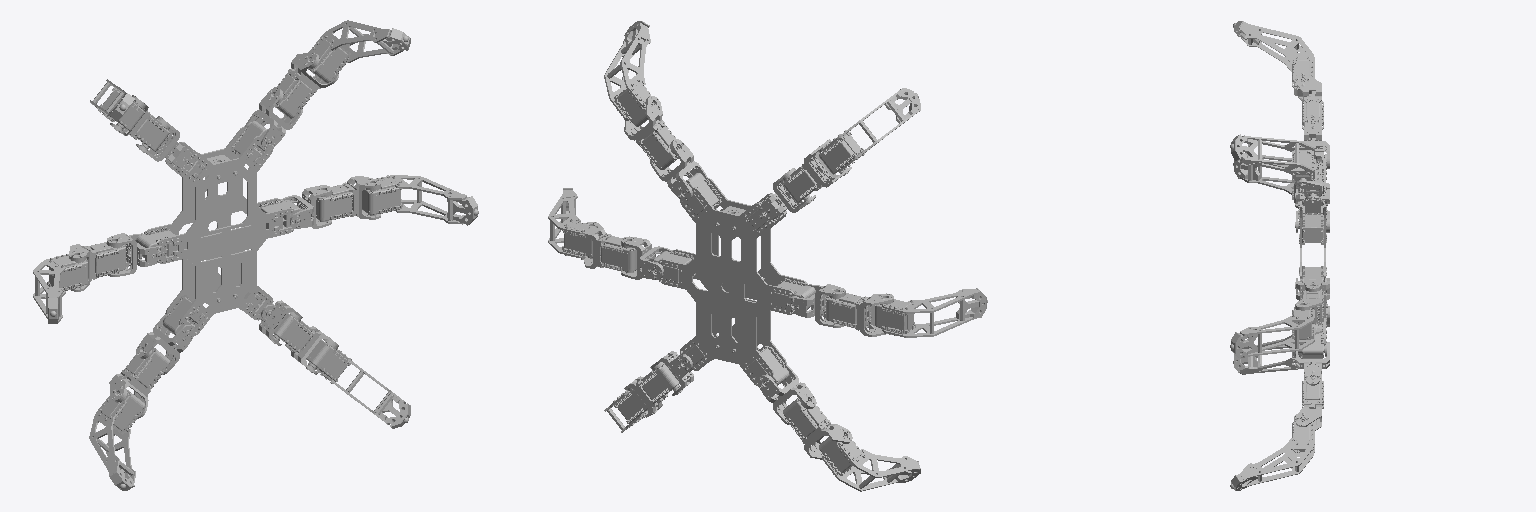
The robot description file, URDF, robot "ASSY_phantom_urdf":
<?xml version="1.0" encoding="utf-8"?>
<!-- This URDF was automatically created by SolidWorks to URDF Exporter! Originally created by [author] ([email redacted]) 
     Commit Version: 1.6.0-4-g7f85cfe  Build Version: 1.6.7995.38578
     For more information, please see http://wiki.ros.org/sw_urdf_exporter -->
<robot
  name="ASSY_phantom_urdf">
  <link
    name="torso">
    <inertial>
      <origin
        xyz="0 0 0"
        rpy="0 0 0" />
      <mass
        value="0.731212290700735" />
      <inertia
        ixx="0.0016575064168216"
        ixy="2.75745412968942E-16"
        ixz="-2.62507796666836E-08"
        iyy="0.00222717882817625"
        iyz="-1.46660187871453E-10"
        izz="0.000634194193879194" />
    </inertial>
    <visual>
      <origin
        xyz="0 0 0"
        rpy="0 0 0" />
      <geometry>
        <mesh
          filename="package://ASSY_phantom_urdf/meshes/torso.STL" />
      </geometry>
      <material
        name="">
        <color
          rgba="0.752941176470588 0.752941176470588 0.752941176470588 1" />
      </material>
    </visual>
  </link>
  <link
    name="LF_thigh">
    <inertial>
      <origin
        xyz="-0.0189187135333139 0.000478712531283593 -0.0260043189660494"
        rpy="0 0 0" />
      <mass
        value="0.0376750978794186" />
      <inertia
        ixx="1.0382676450319E-05"
        ixy="-4.82870833016279E-12"
        ixz="2.19742306492605E-10"
        iyy="1.03826762029704E-05"
        iyz="2.07177635224845E-10"
        izz="1.33200924059604E-05" />
    </inertial>
    <visual>
      <origin
        xyz="0 0 0"
        rpy="0 0 0" />
      <geometry>
        <mesh
          filename="package://ASSY_phantom_urdf/meshes/LF_thigh.STL" />
      </geometry>
      <material
        name="">
        <color
          rgba="0.752941176470588 0.752941176470588 0.752941176470588 1" />
      </material>
    </visual>
  </link>
  <joint
    name="LF1"
    type="continuous">
    <origin
      xyz="0.06091 0 0.12191"
      rpy="2.3562 0 -1.5708" />
    <parent
      link="torso" />
    <child
      link="LF_thigh" />
    <axis
      xyz="1 0 0" />
    <limit
      lower="-2.62"
      upper="2.62"
      effort="0"
      velocity="0" />
  </joint>
  <link
    name="LF_calf">
    <inertial>
      <origin
        xyz="0.0011883822058934 -0.0257706902685676 -0.000595468171442112"
        rpy="0 0 0" />
      <mass
        value="0.0806793209031788" />
      <inertia
        ixx="2.3728117388116E-05"
        ixy="6.91383343596089E-07"
        ixz="-1.86927058499739E-09"
        iyy="1.76778066861672E-05"
        iyz="-2.42616654359594E-07"
        izz="1.65430482663351E-05" />
    </inertial>
    <visual>
      <origin
        xyz="0 0 0"
        rpy="0 0 0" />
      <geometry>
        <mesh
          filename="package://ASSY_phantom_urdf/meshes/LF_calf.STL" />
      </geometry>
      <material
        name="">
        <color
          rgba="0.752941176470588 0.752941176470588 0.752941176470588 1" />
      </material>
    </visual>
  </link>
  <joint
    name="LF2"
    type="continuous">
    <origin
      xyz="-0.01844 0 -0.052"
      rpy="1.5708 0 0" />
    <parent
      link="LF_thigh" />
    <child
      link="LF_calf" />
    <axis
      xyz="0 0 1" />
    <limit
      lower="-2.62"
      upper="2.62"
      effort="0"
      velocity="0" />
  </joint>
  <link
    name="LF_foot">
    <inertial>
      <origin
        xyz="0.0260368249252049 -0.0404597860340416 -0.000363415281257676"
        rpy="0 0 0" />
      <mass
        value="0.103482657185437" />
      <inertia
        ixx="2.77294583593127E-05"
        ixy="1.34850250437592E-05"
        ixz="-1.89527590732161E-09"
        iyy="3.65156462038506E-05"
        iyz="-2.42567822476693E-07"
        izz="4.94335795823809E-05" />
    </inertial>
    <visual>
      <origin
        xyz="0 0 0"
        rpy="0 0 0" />
      <geometry>
        <mesh
          filename="package://ASSY_phantom_urdf/meshes/LF_foot.STL" />
      </geometry>
      <material
        name="">
        <color
          rgba="0.752941176470588 0.752941176470588 0.752941176470588 1" />
      </material>
    </visual>
    <collision>
      <origin
        xyz="0 0 0"
        rpy="0 0 0" />
      <geometry>
        <mesh
          filename="package://ASSY_phantom_urdf/meshes/LF_foot.STL" />
      </geometry>
    </collision>
  </link>
  <joint
    name="LF3"
    type="continuous">
    <origin
      xyz="0.014589 -0.06443 0"
      rpy="0 0 0.003125" />
    <parent
      link="LF_calf" />
    <child
      link="LF_foot" />
    <axis
      xyz="0 0 1" />
    <limit
      lower="-2.62"
      upper="2.62"
      effort="0"
      velocity="0" />
  </joint>
  <link
    name="LM_thigh">
    <inertial>
      <origin
        xyz="-0.0189187144776559 0.000478714468876692 -0.0260043724674276"
        rpy="0 0 0" />
      <mass
        value="0.0376751009203242" />
      <inertia
        ixx="1.03826695315805E-05"
        ixy="-4.98915057940367E-12"
        ixz="2.12172123274005E-10"
        iyy="1.03826695315805E-05"
        iyz="2.12171092886712E-10"
        izz="1.33200927078181E-05" />
    </inertial>
    <visual>
      <origin
        xyz="0 0 0"
        rpy="0 0 0" />
      <geometry>
        <mesh
          filename="package://ASSY_phantom_urdf/meshes/LM_thigh.STL" />
      </geometry>
      <material
        name="">
        <color
          rgba="0.752941176470588 0.752941176470588 0.752941176470588 1" />
      </material>
    </visual>
  </link>
  <joint
    name="LM1"
    type="continuous">
    <origin
      xyz="0.1035 0 0"
      rpy="1.5708 0 -1.5708" />
    <parent
      link="torso" />
    <child
      link="LM_thigh" />
    <axis
      xyz="1 0 0" />
    <limit
      lower="-2.62"
      upper="2.62"
      effort="0"
      velocity="0" />
  </joint>
  <link
    name="LM_calf">
    <inertial>
      <origin
        xyz="0.00118838231960932 -0.025770698950229 -0.000595469030781378"
        rpy="0 0 0" />
      <mass
        value="0.0806793230410402" />
      <inertia
        ixx="2.372813040667E-05"
        ixy="6.91387181200164E-07"
        ixz="-1.86911320278935E-09"
        iyy="1.76778070616522E-05"
        iyz="-2.42614136009203E-07"
        izz="1.65430614484109E-05" />
    </inertial>
    <visual>
      <origin
        xyz="0 0 0"
        rpy="0 0 0" />
      <geometry>
        <mesh
          filename="package://ASSY_phantom_urdf/meshes/LM_calf.STL" />
      </geometry>
      <material
        name="">
        <color
          rgba="0.752941176470588 0.752941176470588 0.752941176470588 1" />
      </material>
    </visual>
  </link>
  <joint
    name="LM2"
    type="continuous">
    <origin
      xyz="-0.01844 0 -0.052"
      rpy="1.5708 0 0" />
    <parent
      link="LM_thigh" />
    <child
      link="LM_calf" />
    <axis
      xyz="0 0 1" />
    <limit
      lower="-2.62"
      upper="2.62"
      effort="0"
      velocity="0" />
  </joint>
  <link
    name="LM_foot">
    <inertial>
      <origin
        xyz="0.0260368352823269 -0.0404597921966018 -0.000363415322185633"
        rpy="0 0 0" />
      <mass
        value="0.103482647116765" />
      <inertia
        ixx="2.77294580425894E-05"
        ixy="1.34850250509666E-05"
        ixz="-1.89526129533979E-09"
        iyy="3.65156463296133E-05"
        iyz="-2.42567843681905E-07"
        izz="4.94335793127813E-05" />
    </inertial>
    <visual>
      <origin
        xyz="0 0 0"
        rpy="0 0 0" />
      <geometry>
        <mesh
          filename="package://ASSY_phantom_urdf/meshes/LM_foot.STL" />
      </geometry>
      <material
        name="">
        <color
          rgba="0.752941176470588 0.752941176470588 0.752941176470588 1" />
      </material>
    </visual>
    <collision>
      <origin
        xyz="0 0 0"
        rpy="0 0 0" />
      <geometry>
        <mesh
          filename="package://ASSY_phantom_urdf/meshes/LM_foot.STL" />
      </geometry>
    </collision>
  </link>
  <joint
    name="LM3"
    type="continuous">
    <origin
      xyz="0.014589 -0.06443 0"
      rpy="0 0 0.003125" />
    <parent
      link="LM_calf" />
    <child
      link="LM_foot" />
    <axis
      xyz="0 0 1" />
    <limit
      lower="-2.62"
      upper="2.62"
      effort="0"
      velocity="0" />
  </joint>
  <link
    name="LB_thigh">
    <inertial>
      <origin
        xyz="-0.0189187135333139 0.000478712531283773 -0.0260043189660493"
        rpy="0 0 0" />
      <mass
        value="0.0376750978794186" />
      <inertia
        ixx="1.0382676450319E-05"
        ixy="-4.8287083319338E-12"
        ixz="2.19742306490552E-10"
        iyy="1.03826762029704E-05"
        iyz="2.07177635228656E-10"
        izz="1.33200924059604E-05" />
    </inertial>
    <visual>
      <origin
        xyz="0 0 0"
        rpy="0 0 0" />
      <geometry>
        <mesh
          filename="package://ASSY_phantom_urdf/meshes/LB_thigh.STL" />
      </geometry>
      <material
        name="">
        <color
          rgba="0.752941176470588 0.752941176470588 0.752941176470588 1" />
      </material>
    </visual>
  </link>
  <joint
    name="LB1"
    type="continuous">
    <origin
      xyz="0.06091 0 -0.12191"
      rpy="0.7854 0 -1.5708" />
    <parent
      link="torso" />
    <child
      link="LB_thigh" />
    <axis
      xyz="1 0 0" />
    <limit
      lower="-2.62"
      upper="2.62"
      effort="0"
      velocity="0" />
  </joint>
  <link
    name="LB_calf">
    <inertial>
      <origin
        xyz="0.00118838220589342 -0.0257706902685676 -0.000595468171442057"
        rpy="0 0 0" />
      <mass
        value="0.0806793209031789" />
      <inertia
        ixx="2.37281173881159E-05"
        ixy="6.91383343596082E-07"
        ixz="-1.86927058499686E-09"
        iyy="1.76778066861671E-05"
        iyz="-2.42616654359596E-07"
        izz="1.65430482663351E-05" />
    </inertial>
    <visual>
      <origin
        xyz="0 0 0"
        rpy="0 0 0" />
      <geometry>
        <mesh
          filename="package://ASSY_phantom_urdf/meshes/LB_calf.STL" />
      </geometry>
      <material
        name="">
        <color
          rgba="0.752941176470588 0.752941176470588 0.752941176470588 1" />
      </material>
    </visual>
  </link>
  <joint
    name="LB2"
    type="continuous">
    <origin
      xyz="-0.01844 0 -0.052"
      rpy="1.5708 0 0" />
    <parent
      link="LB_thigh" />
    <child
      link="LB_calf" />
    <axis
      xyz="0 0 1" />
    <limit
      lower="-2.62"
      upper="2.62"
      effort="0"
      velocity="0" />
  </joint>
  <link
    name="LB_foot">
    <inertial>
      <origin
        xyz="0.0260368249252049 -0.0404597860340416 -0.000363415281257801"
        rpy="0 0 0" />
      <mass
        value="0.103482657185437" />
      <inertia
        ixx="2.77294583593127E-05"
        ixy="1.34850250437591E-05"
        ixz="-1.89527590732469E-09"
        iyy="3.65156462038505E-05"
        iyz="-2.42567822476683E-07"
        izz="4.94335795823807E-05" />
    </inertial>
    <visual>
      <origin
        xyz="0 0 0"
        rpy="0 0 0" />
      <geometry>
        <mesh
          filename="package://ASSY_phantom_urdf/meshes/LB_foot.STL" />
      </geometry>
      <material
        name="">
        <color
          rgba="0.752941176470588 0.752941176470588 0.752941176470588 1" />
      </material>
    </visual>
    <collision>
      <origin
        xyz="0 0 0"
        rpy="0 0 0" />
      <geometry>
        <mesh
          filename="package://ASSY_phantom_urdf/meshes/LB_foot.STL" />
      </geometry>
    </collision>
  </link>
  <joint
    name="LB3"
    type="continuous">
    <origin
      xyz="0.014589 -0.06443 0"
      rpy="0 0 0.003125" />
    <parent
      link="LB_calf" />
    <child
      link="LB_foot" />
    <axis
      xyz="0 0 1" />
    <limit
      lower="-2.62"
      upper="2.62"
      effort="0"
      velocity="0" />
  </joint>
  <link
    name="RF_thigh">
    <inertial>
      <origin
        xyz="-0.0189188020479903 0.0004788008459801 0.0260043353596263"
        rpy="0 0 0" />
      <mass
        value="0.0376758208259914" />
      <inertia
        ixx="1.03828764673456E-05"
        ixy="-3.25408417105759E-11"
        ixz="-3.46294905024722E-10"
        iyy="1.03828761205044E-05"
        iyz="-3.38463493359526E-10"
        izz="1.33203665739127E-05" />
    </inertial>
    <visual>
      <origin
        xyz="0 0 0"
        rpy="0 0 0" />
      <geometry>
        <mesh
          filename="package://ASSY_phantom_urdf/meshes/RF_thigh.STL" />
      </geometry>
      <material
        name="">
        <color
          rgba="0.752941176470588 0.752941176470588 0.752941176470588 1" />
      </material>
    </visual>
  </link>
  <joint
    name="RF1"
    type="continuous">
    <origin
      xyz="-0.06091 0 0.12191"
      rpy="0.7854 0 -1.5708" />
    <parent
      link="torso" />
    <child
      link="RF_thigh" />
    <axis
      xyz="1 0 0" />
    <limit
      lower="-2.62"
      upper="2.62"
      effort="0"
      velocity="0" />
  </joint>
  <link
    name="RF_calf">
    <inertial>
      <origin
        xyz="0.00118839518367737 -0.0257708228212739 0.000595485012719429"
        rpy="0 0 0" />
      <mass
        value="0.0806796977247256" />
      <inertia
        ixx="2.37283014240176E-05"
        ixy="6.91400096383682E-07"
        ixz="1.80359367203847E-09"
        iyy="1.76779113483845E-05"
        iyz="2.42640650049935E-07"
        izz="1.65430957295547E-05" />
    </inertial>
    <visual>
      <origin
        xyz="0 0 0"
        rpy="0 0 0" />
      <geometry>
        <mesh
          filename="package://ASSY_phantom_urdf/meshes/RF_calf.STL" />
      </geometry>
      <material
        name="">
        <color
          rgba="0.752941176470588 0.752941176470588 0.752941176470588 1" />
      </material>
    </visual>
  </link>
  <joint
    name="RF2"
    type="continuous">
    <origin
      xyz="-0.01844 0 0.052"
      rpy="-1.5708 0 0" />
    <parent
      link="RF_thigh" />
    <child
      link="RF_calf" />
    <axis
      xyz="0 0 1" />
    <limit
      lower="-2.62"
      upper="2.62"
      effort="0"
      velocity="0" />
  </joint>
  <link
    name="RF_foot">
    <inertial>
      <origin
        xyz="0.025152401746314 -0.0399190614070512 0.000363400913231504"
        rpy="0 0 0" />
      <mass
        value="0.103482767086738" />
      <inertia
        ixx="2.77294724207739E-05"
        ixy="1.34850252911508E-05"
        ixz="1.89619129988271E-09"
        iyy="3.65156683610864E-05"
        iyz="2.42562432300115E-07"
        izz="4.94335675939808E-05" />
    </inertial>
    <visual>
      <origin
        xyz="0 0 0"
        rpy="0 0 0" />
      <geometry>
        <mesh
          filename="package://ASSY_phantom_urdf/meshes/RF_foot.STL" />
      </geometry>
      <material
        name="">
        <color
          rgba="0.752941176470588 0.752941176470588 0.752941176470588 1" />
      </material>
    </visual>
    <collision>
      <origin
        xyz="0 0 0"
        rpy="0 0 0" />
      <geometry>
        <mesh
          filename="package://ASSY_phantom_urdf/meshes/RF_foot.STL" />
      </geometry>
    </collision>
  </link>
  <joint
    name="RF3"
    type="continuous">
    <origin
      xyz="0.014589 -0.06443 0"
      rpy="0 0 0.003125" />
    <parent
      link="RF_calf" />
    <child
      link="RF_foot" />
    <axis
      xyz="0 0 1" />
    <limit
      lower="-2.62"
      upper="2.62"
      effort="0"
      velocity="0" />
  </joint>
  <link
    name="RM_thigh">
    <inertial>
      <origin
        xyz="-0.0189188023390825 0.000478802347846598 0.0260043723573318"
        rpy="0 0 0" />
      <mass
        value="0.0376758228348441" />
      <inertia
        ixx="1.03828709694775E-05"
        ixy="-3.26232367539305E-11"
        ixz="-3.41920389664023E-10"
        iyy="1.03828709694775E-05"
        iyz="-3.41921417828021E-10"
        izz="1.33203669609511E-05" />
    </inertial>
    <visual>
      <origin
        xyz="0 0 0"
        rpy="0 0 0" />
      <geometry>
        <mesh
          filename="package://ASSY_phantom_urdf/meshes/RM_thigh.STL" />
      </geometry>
      <material
        name="">
        <color
          rgba="0.752941176470588 0.752941176470588 0.752941176470588 1" />
      </material>
    </visual>
  </link>
  <joint
    name="RM1"
    type="continuous">
    <origin
      xyz="-0.1035 0 0"
      rpy="1.5708 0 -1.5708" />
    <parent
      link="torso" />
    <child
      link="RM_thigh" />
    <axis
      xyz="1 0 0" />
    <limit
      lower="-2.62"
      upper="2.62"
      effort="0"
      velocity="0" />
  </joint>
  <link
    name="RM_calf">
    <inertial>
      <origin
        xyz="0.00118839539756592 -0.0257708287030725 0.000595485605075673"
        rpy="0 0 0" />
      <mass
        value="0.0806796995241699" />
      <inertia
        ixx="2.37283095434187E-05"
        ixy="6.91403722860562E-07"
        ixz="1.80350446805661E-09"
        iyy="1.76779117425198E-05"
        iyz="2.42636609758678E-07"
        izz="1.6543104205585E-05" />
    </inertial>
    <visual>
      <origin
        xyz="0 0 0"
        rpy="0 0 0" />
      <geometry>
        <mesh
          filename="package://ASSY_phantom_urdf/meshes/RM_calf.STL" />
      </geometry>
      <material
        name="">
        <color
          rgba="0.752941176470588 0.752941176470588 0.752941176470588 1" />
      </material>
    </visual>
  </link>
  <joint
    name="RM2"
    type="continuous">
    <origin
      xyz="-0.01844 0 0.052"
      rpy="-1.5708 0 0" />
    <parent
      link="RM_thigh" />
    <child
      link="RM_calf" />
    <axis
      xyz="0 0 1" />
    <limit
      lower="-2.62"
      upper="2.62"
      effort="0"
      velocity="0" />
  </joint>
  <link
    name="RM_foot">
    <inertial>
      <origin
        xyz="0.0251524065902219 -0.0399190635592102 0.00036340086753898"
        rpy="0 0 0" />
      <mass
        value="0.10348275106474" />
      <inertia
        ixx="2.77294721194689E-05"
        ixy="1.34850252920998E-05"
        ixz="1.89619266653238E-09"
        iyy="3.65156684447897E-05"
        iyz="2.42562431527922E-07"
        izz="4.9433567404597E-05" />
    </inertial>
    <visual>
      <origin
        xyz="0 0 0"
        rpy="0 0 0" />
      <geometry>
        <mesh
          filename="package://ASSY_phantom_urdf/meshes/RM_foot.STL" />
      </geometry>
      <material
        name="">
        <color
          rgba="0.752941176470588 0.752941176470588 0.752941176470588 1" />
      </material>
    </visual>
    <collision>
      <origin
        xyz="0 0 0"
        rpy="0 0 0" />
      <geometry>
        <mesh
          filename="package://ASSY_phantom_urdf/meshes/RM_foot.STL" />
      </geometry>
    </collision>
  </link>
  <joint
    name="RM3"
    type="continuous">
    <origin
      xyz="0.014589 -0.06443 0"
      rpy="0 0 0.003125" />
    <parent
      link="RM_calf" />
    <child
      link="RM_foot" />
    <axis
      xyz="0 0 1" />
    <limit
      lower="-2.62"
      upper="2.62"
      effort="0"
      velocity="0" />
  </joint>
  <link
    name="RB_thigh">
    <inertial>
      <origin
        xyz="-0.0189188020479903 0.000478800845980197 0.0260043353596263"
        rpy="0 0 0" />
      <mass
        value="0.0376758208259914" />
      <inertia
        ixx="1.03828764673456E-05"
        ixy="-3.25408417113E-11"
        ixz="-3.46294905019157E-10"
        iyy="1.03828761205044E-05"
        iyz="-3.38463493343009E-10"
        izz="1.33203665739127E-05" />
    </inertial>
    <visual>
      <origin
        xyz="0 0 0"
        rpy="0 0 0" />
      <geometry>
        <mesh
          filename="package://ASSY_phantom_urdf/meshes/RB_thigh.STL" />
      </geometry>
      <material
        name="">
        <color
          rgba="0.752941176470588 0.752941176470588 0.752941176470588 1" />
      </material>
    </visual>
  </link>
  <joint
    name="RB1"
    type="continuous">
    <origin
      xyz="-0.06091 0 -0.12191"
      rpy="2.3562 0 -1.5708" />
    <parent
      link="torso" />
    <child
      link="RB_thigh" />
    <axis
      xyz="1 0 0" />
    <limit
      lower="-2.62"
      upper="2.62"
      effort="0"
      velocity="0" />
  </joint>
  <link
    name="RB_calf">
    <inertial>
      <origin
        xyz="0.00118839518367737 -0.0257708228212741 0.000595485012719332"
        rpy="0 0 0" />
      <mass
        value="0.0806796977247256" />
      <inertia
        ixx="2.37283014240176E-05"
        ixy="6.91400096383681E-07"
        ixz="1.80359367202841E-09"
        iyy="1.76779113483845E-05"
        iyz="2.42640650049938E-07"
        izz="1.65430957295547E-05" />
    </inertial>
    <visual>
      <origin
        xyz="0 0 0"
        rpy="0 0 0" />
      <geometry>
        <mesh
          filename="package://ASSY_phantom_urdf/meshes/RB_calf.STL" />
      </geometry>
      <material
        name="">
        <color
          rgba="0.752941176470588 0.752941176470588 0.752941176470588 1" />
      </material>
    </visual>
  </link>
  <joint
    name="RB2"
    type="continuous">
    <origin
      xyz="-0.01844 0 0.052"
      rpy="-1.5708 0 0" />
    <parent
      link="RB_thigh" />
    <child
      link="RB_calf" />
    <axis
      xyz="0 0 1" />
    <limit
      lower="-2.62"
      upper="2.62"
      effort="0"
      velocity="0" />
  </joint>
  <link
    name="RB_foot">
    <inertial>
      <origin
        xyz="0.025152401746314 -0.0399190614070511 0.000363400913231143"
        rpy="0 0 0" />
      <mass
        value="0.103482767086738" />
      <inertia
        ixx="2.7729472420774E-05"
        ixy="1.34850252911508E-05"
        ixz="1.89619129990956E-09"
        iyy="3.65156683610865E-05"
        iyz="2.42562432300108E-07"
        izz="4.94335675939809E-05" />
    </inertial>
    <visual>
      <origin
        xyz="0 0 0"
        rpy="0 0 0" />
      <geometry>
        <mesh
          filename="package://ASSY_phantom_urdf/meshes/RB_foot.STL" />
      </geometry>
      <material
        name="">
        <color
          rgba="0.752941176470588 0.752941176470588 0.752941176470588 1" />
      </material>
    </visual>
    <collision>
      <origin
        xyz="0 0 0"
        rpy="0 0 0" />
      <geometry>
        <mesh
          filename="package://ASSY_phantom_urdf/meshes/RB_foot.STL" />
      </geometry>
    </collision>
  </link>
  <joint
    name="RB3"
    type="continuous">
    <origin
      xyz="0.014589 -0.06443 0"
      rpy="0 0 0.003125" />
    <parent
      link="RB_calf" />
    <child
      link="RB_foot" />
    <axis
      xyz="0 0 1" />
    <limit
      lower="-2.62"
      upper="2.62"
      effort="0"
      velocity="0" />
  </joint>
</robot>

--- Facts derived from the render (not from the file) ---
3 views of the same robot in one strip: view 1: azimuth 30°, elevation 25°; view 2: azimuth 150°, elevation 25°; view 3: azimuth 270°, elevation 25° (orthographic).
Model ASSY_phantom_urdf with 19 links and 18 joints (18 continuous), rooted at torso, posed every joint at zero.
Visible links, largest first — view 1: torso, LM_foot, LF_foot, RB_foot, LB_foot, RM_foot, LF_calf, RB_calf, LM_calf, RM_calf, LB_calf, RB_thigh (+7 smaller); view 2: torso, RM_foot, LF_foot, RB_foot, RF_foot, LM_foot, RB_calf, LF_calf, RM_calf, LM_calf, RF_calf, RB_thigh (+7 smaller); view 3: LB_foot, torso, LM_foot, RF_foot, LF_foot, LB_calf, RF_calf, RM_foot, RB_foot, LB_thigh, RF_thigh, LM_calf (+1 smaller).
Link boxes in pixels (x1=…): torso: x1=136, y1=121, x2=301, y2=335; LM_foot: x1=362, y1=175, x2=478, y2=225; LF_foot: x1=308, y1=20, x2=410, y2=82; RB_foot: x1=89, y1=389, x2=144, y2=490; LB_foot: x1=306, y1=340, x2=410, y2=428; RM_foot: x1=33, y1=254, x2=87, y2=323; LF_calf: x1=274, y1=52, x2=338, y2=118; RB_calf: x1=109, y1=348, x2=169, y2=418; LM_calf: x1=316, y1=176, x2=380, y2=220; RM_calf: x1=69, y1=242, x2=125, y2=291; LB_calf: x1=273, y1=313, x2=338, y2=374; RB_thigh: x1=136, y1=314, x2=194, y2=374; torso: x1=651, y1=173, x2=815, y2=386; RM_foot: x1=875, y1=288, x2=987, y2=337; LF_foot: x1=604, y1=21, x2=650, y2=126; RB_foot: x1=819, y1=437, x2=920, y2=491; RF_foot: x1=819, y1=88, x2=920, y2=174; LM_foot: x1=548, y1=188, x2=599, y2=259; RB_calf: x1=783, y1=398, x2=852, y2=459; LF_calf: x1=624, y1=96, x2=678, y2=169; RM_calf: x1=826, y1=293, x2=893, y2=336; LM_calf: x1=584, y1=222, x2=636, y2=271; RF_calf: x1=783, y1=139, x2=851, y2=202; RB_thigh: x1=757, y1=365, x2=816, y2=424; LB_foot: x1=1230, y1=414, x2=1314, y2=490; torso: x1=1298, y1=152, x2=1327, y2=358; LM_foot: x1=1230, y1=307, x2=1314, y2=358; RF_foot: x1=1233, y1=21, x2=1314, y2=96; LF_foot: x1=1230, y1=134, x2=1314, y2=181; LB_calf: x1=1295, y1=374, x2=1323, y2=430; RF_calf: x1=1295, y1=73, x2=1323, y2=137; RM_foot: x1=1233, y1=153, x2=1299, y2=203; RB_foot: x1=1233, y1=335, x2=1299, y2=374; LB_thigh: x1=1295, y1=342, x2=1329, y2=385; RF_thigh: x1=1299, y1=115, x2=1329, y2=168; LM_calf: x1=1295, y1=289, x2=1323, y2=334.
Size in the robot's own frame: 0.6368 by 0.1445 by 0.5707 metres.
19 mesh visuals loaded from 19 distinct referenced files (19 binary STL).